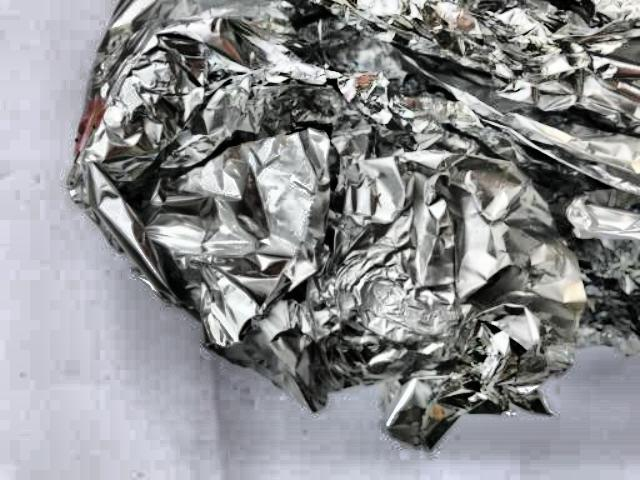Almennt: (52, 0, 640, 466)
